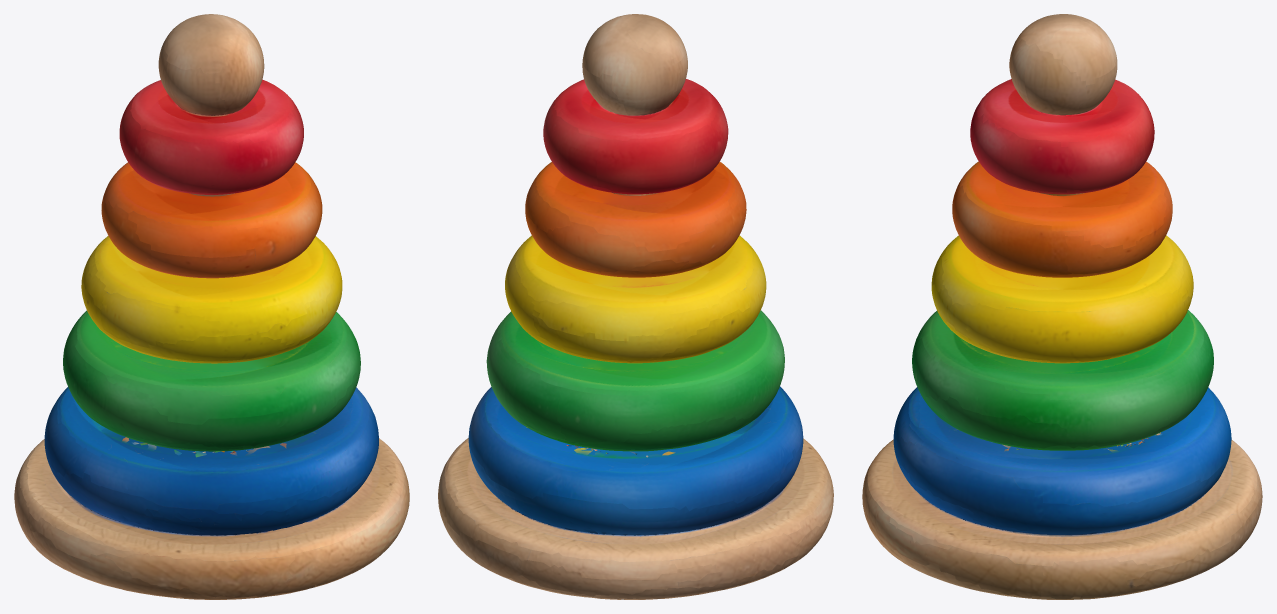
File: stacking-rings.glb
The picture shows the model from 3 angles, left to right: view 1: azimuth 30°, elevation 25°; view 2: azimuth 150°, elevation 25°; view 3: azimuth 270°, elevation 25°; orthographic projection.
Parts seen in each view (by area): view 1: geometry_0; view 2: geometry_0; view 3: geometry_0.
Boxes of the visible parts, x1=… form: geometry_0: x1=14, y1=14, x2=409, y2=599; geometry_0: x1=438, y1=14, x2=833, y2=599; geometry_0: x1=862, y1=14, x2=1262, y2=599.
Bounding box in the file's own units: 0.1507 × 0.21 × 0.1513.
1 material, 1 textured.
